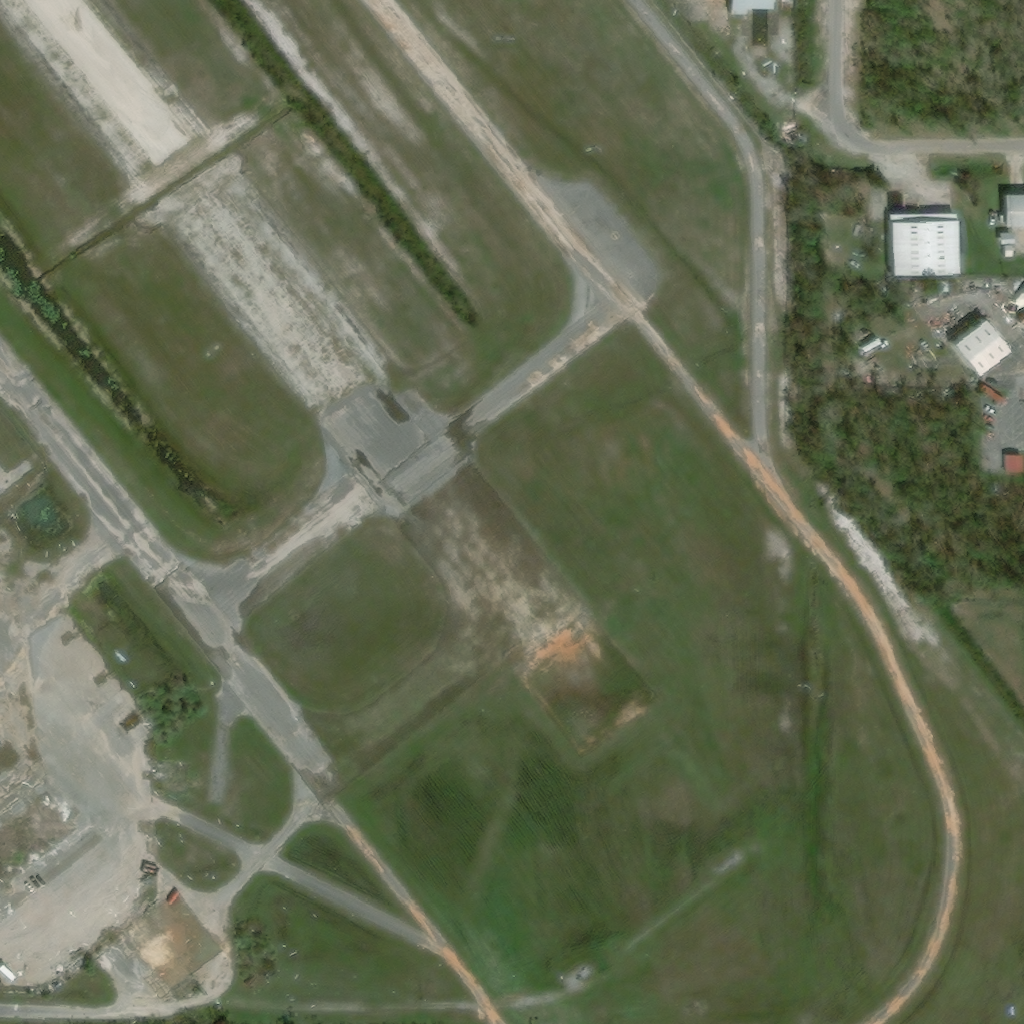destroyed: (951, 315, 980, 342)
major_damage: (1014, 302, 1024, 321)
minor_damage: (963, 318, 1021, 375)
no_damage: (899, 212, 968, 277), (1015, 192, 1024, 226), (1013, 456, 1024, 478), (1012, 245, 1024, 260), (1011, 234, 1024, 245)
unclassified: (742, 0, 783, 9)
